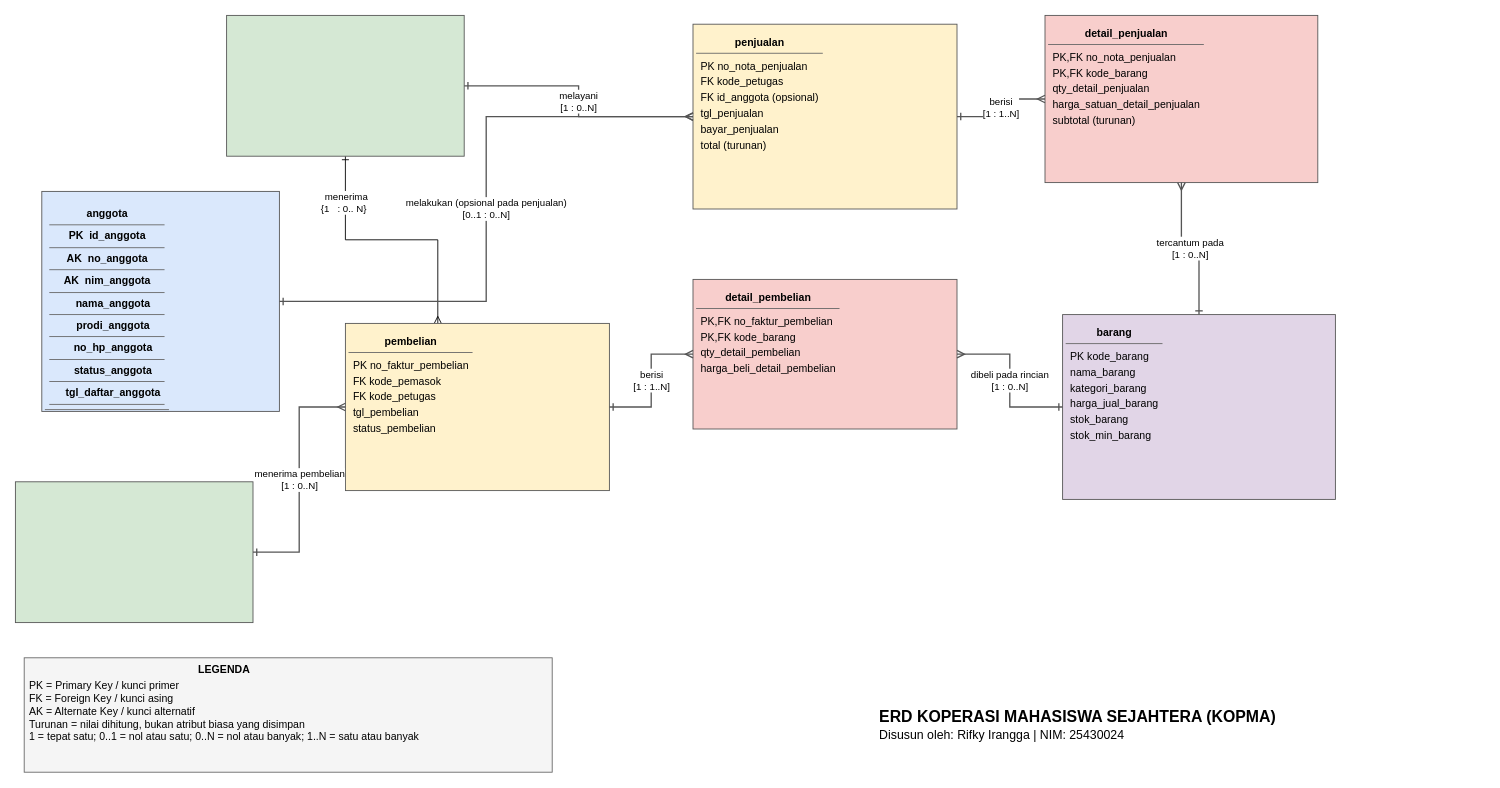
Some shapes in this 1500 by 788 pixel diagram are drawn without their labels. Each missing label, with the centre of its shape:
"pemasok PK kode_pemasok nama_pemasok no_telepon_pemasok alamat_pemasok" belongs at (134,552).
"petugas PK kode_petugas nama_petugas peran_petugas" belongs at (345,85).
